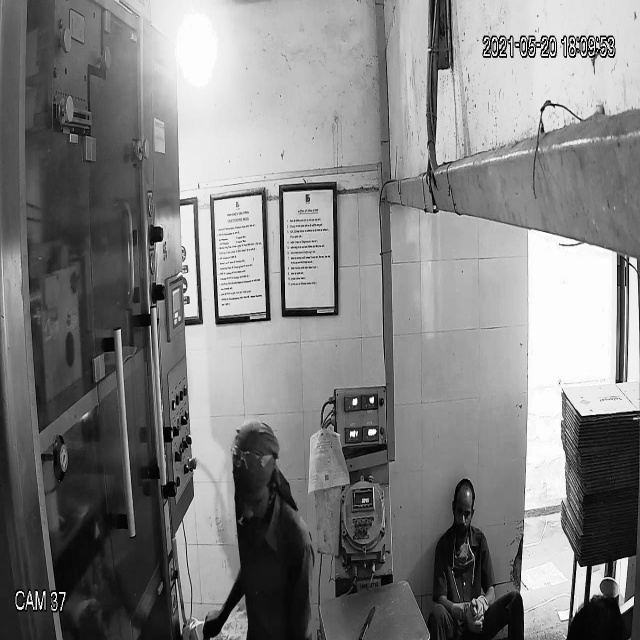Sin_gafas: (231, 481, 274, 516), (448, 498, 478, 524)
